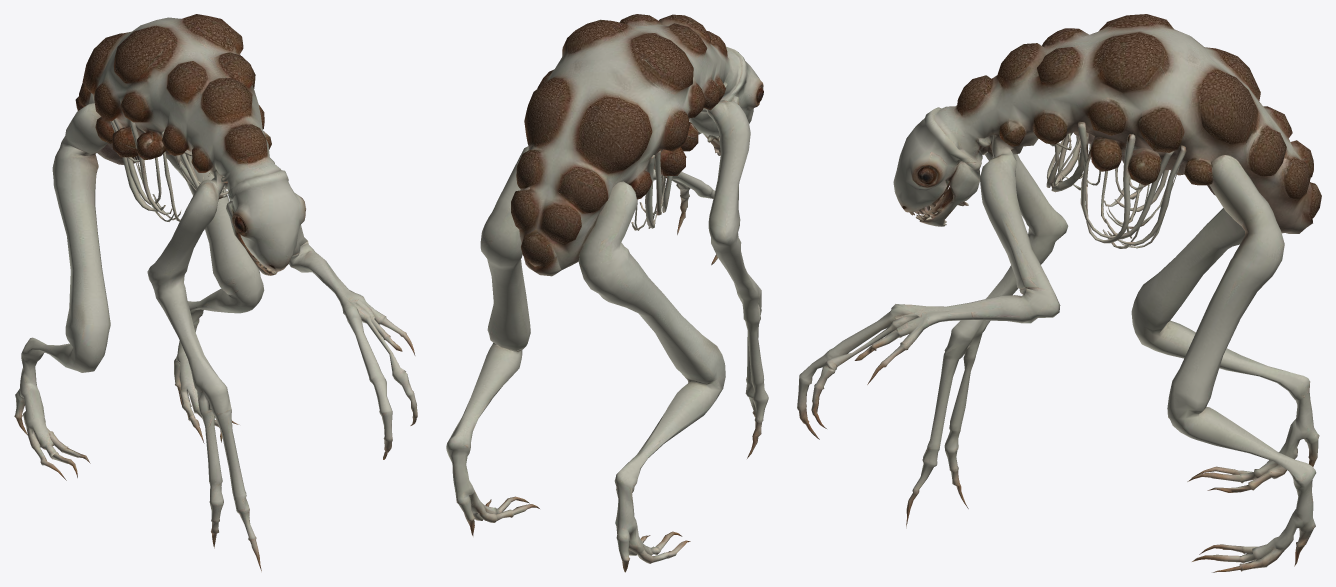
Rendered from enm_lazarus_organism.glb.
3 renders of one model, left to right at view 1: azimuth 30°, elevation 25°; view 2: azimuth 150°, elevation 25°; view 3: azimuth 270°, elevation 25°, orthographic. The views are drawn at different scales.
Bounding box in the file's own units: 0.4551 × 0.9517 × 0.8774.
1 material, 1 textured.
